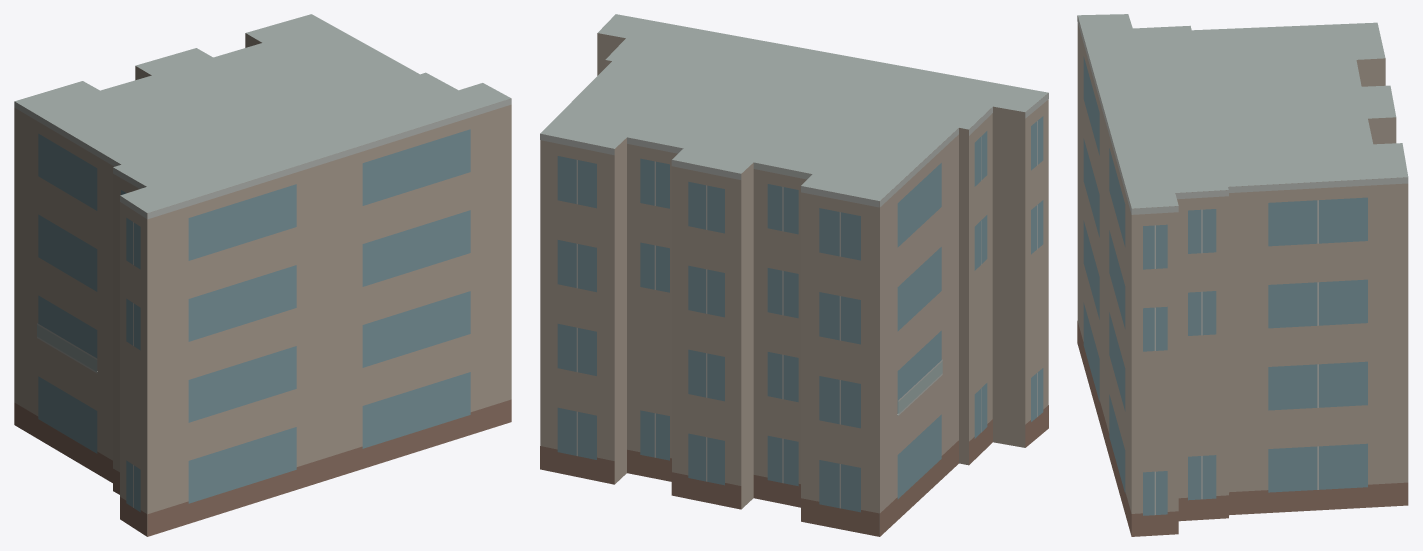
The model's file is survey-upis-32944542.glb.
The picture shows the model from 3 angles, left to right: view 1: azimuth 30°, elevation 25°; view 2: azimuth 150°, elevation 25°; view 3: azimuth 270°, elevation 25°; orthographic projection. The views are drawn at different scales.
Visible parts, largest first — view 1: survey-upis-32944542.tmp; view 2: survey-upis-32944542.tmp; view 3: survey-upis-32944542.tmp.
Part boxes in pixels (left/top/right/bottom): survey-upis-32944542.tmp: left=14, top=14, right=511, bottom=536; survey-upis-32944542.tmp: left=540, top=14, right=1048, bottom=536; survey-upis-32944542.tmp: left=1077, top=14, right=1408, bottom=536.
Bounding box in the file's own units: 16.16 × 12.7 × 11.61.
